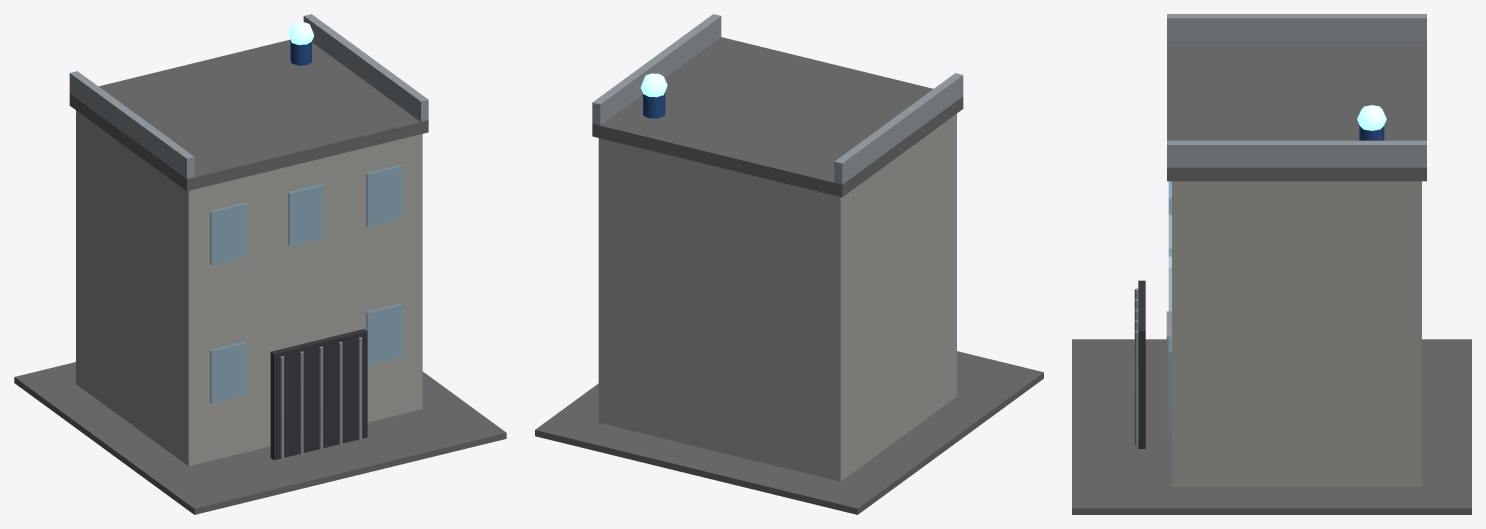
Rendered from bld_special_police_a07_lod1.glb.
3 renders of one model, left to right at view 1: azimuth 30°, elevation 25°; view 2: azimuth 150°, elevation 25°; view 3: azimuth 270°, elevation 25°, orthographic. The views are drawn at different scales.
Parts seen in each view (by area): view 1: body; view 2: body; view 3: body.
Boxes of the visible parts, box(x1,y1,x2,y2) form: body: box(14, 14, 506, 514); body: box(535, 14, 1043, 514); body: box(1072, 14, 1471, 514).
Size of the model in its own units: 8 by 8.2 by 8.
